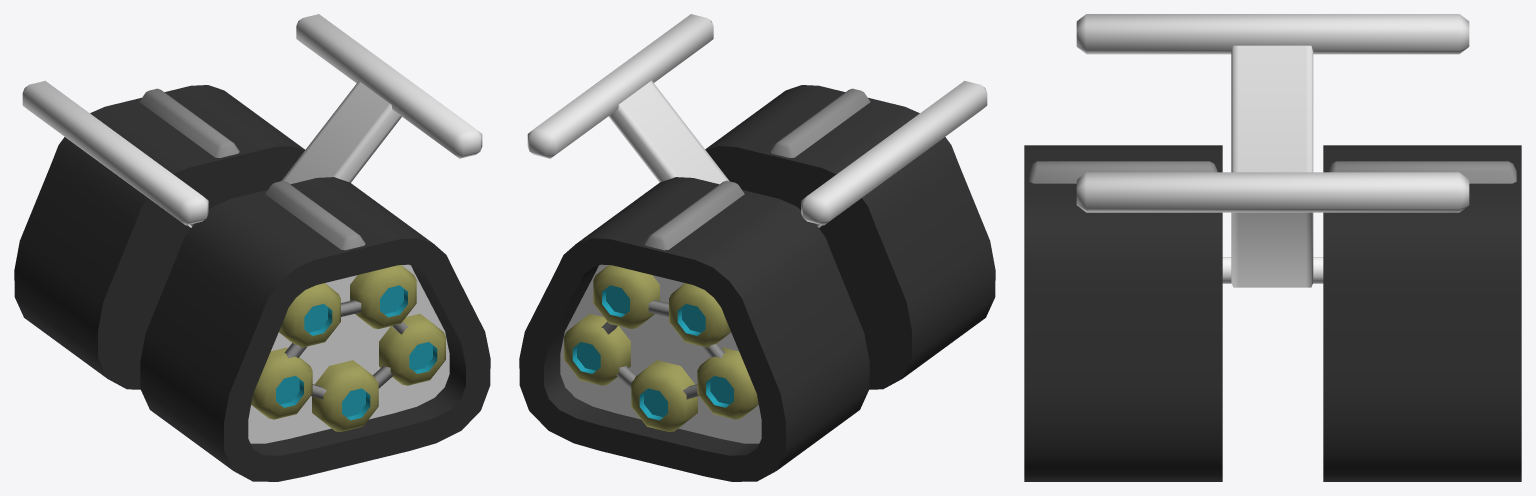
Rendered from caterpillar_5.fbx.
The picture shows the model from 3 angles, left to right: view 1: azimuth 30°, elevation 25°; view 2: azimuth 150°, elevation 25°; view 3: azimuth 270°, elevation 25°; orthographic projection. The views are drawn at different scales.
Parts seen in each view (by area): view 1: caterpillar_5; view 2: caterpillar_5; view 3: caterpillar_5.
Boxes of the visible parts, x1=… form: caterpillar_5: x1=14, y1=14, x2=490, y2=481; caterpillar_5: x1=519, y1=14, x2=995, y2=481; caterpillar_5: x1=1024, y1=14, x2=1521, y2=481.
Bounding box in the file's own units: 199 × 177 × 239.
